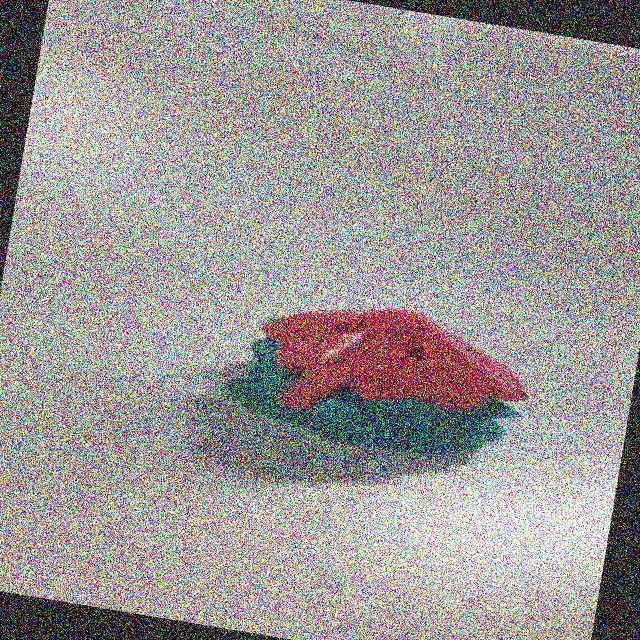House: (211, 279, 540, 472)
